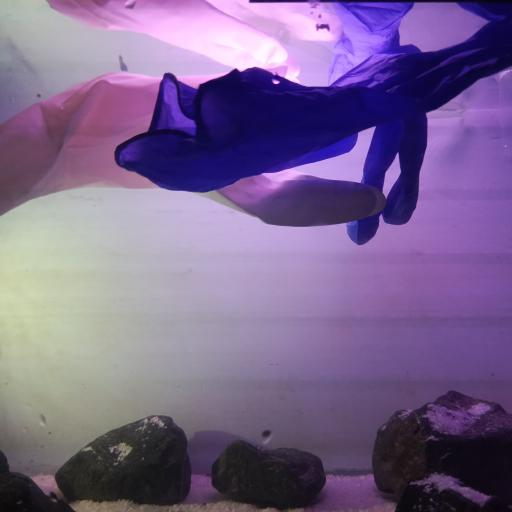glove: (116, 26, 512, 245), (5, 63, 384, 242), (35, 0, 335, 65)
